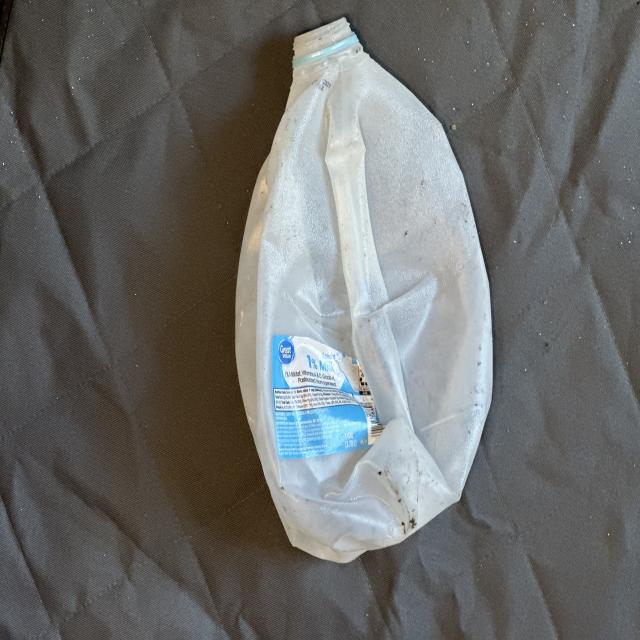milk-jug: (229, 9, 494, 568)
